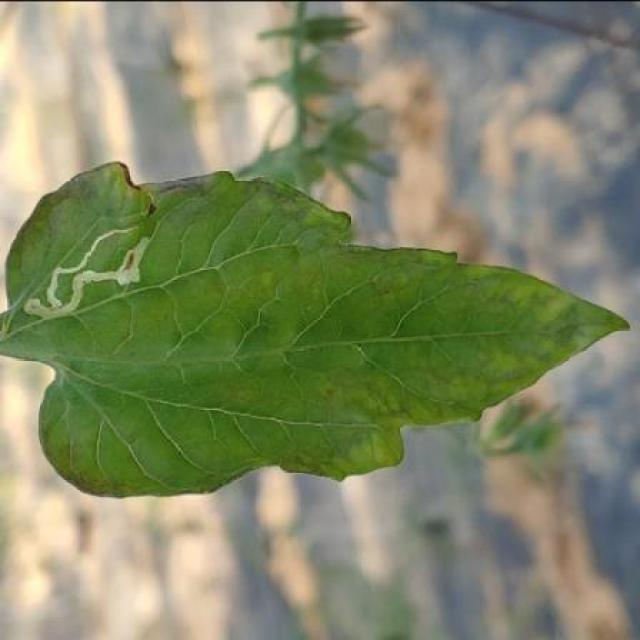Leaf Miner: (3, 158, 630, 498)
